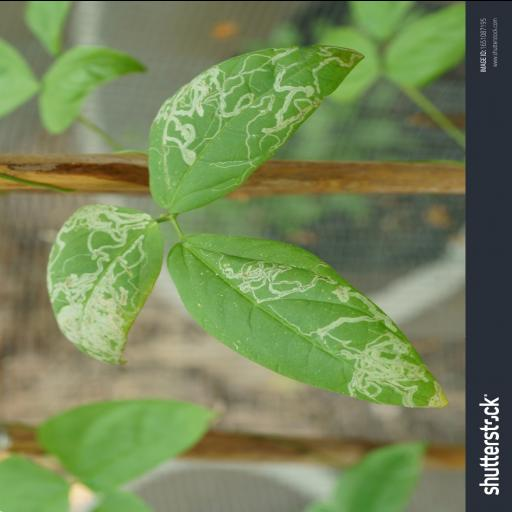disease_tomato: (165, 232, 452, 410), (145, 44, 365, 216), (45, 204, 163, 368)
